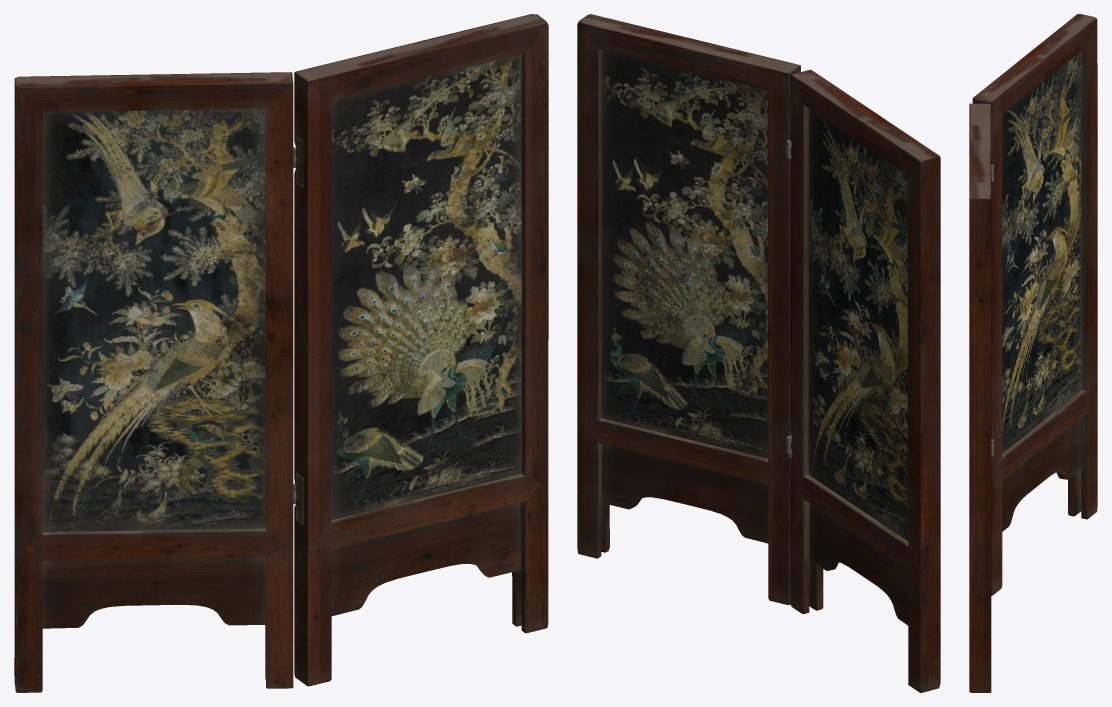
The model's file is chinese_screen_panels.glb.
3 renders of one model, left to right at view 1: azimuth 30°, elevation 25°; view 2: azimuth 150°, elevation 25°; view 3: azimuth 270°, elevation 25°, orthographic. The views are drawn at different scales.
Parts seen in each view (by area): view 1: chinese_screen_panels_b, chinese_screen_panels_a; view 2: chinese_screen_panels_a, chinese_screen_panels_b; view 3: chinese_screen_panels_b, chinese_screen_panels_a.
Part boxes in pixels (x1,y1,x2,y2): chinese_screen_panels_b: (14, 72, 295, 692); chinese_screen_panels_a: (293, 14, 548, 686); chinese_screen_panels_a: (577, 14, 800, 604); chinese_screen_panels_b: (786, 69, 940, 692); chinese_screen_panels_b: (972, 14, 1097, 595); chinese_screen_panels_a: (969, 103, 993, 692).
Size of the model in its own units: 1.29 by 1.6 by 0.3769.
Materials: 1 (1 with a texture image).
